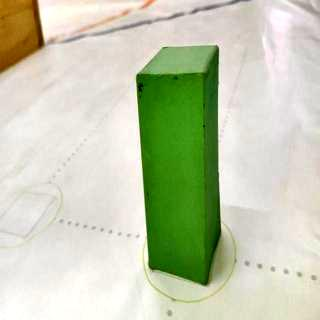greenbox: (136, 45, 220, 286)
